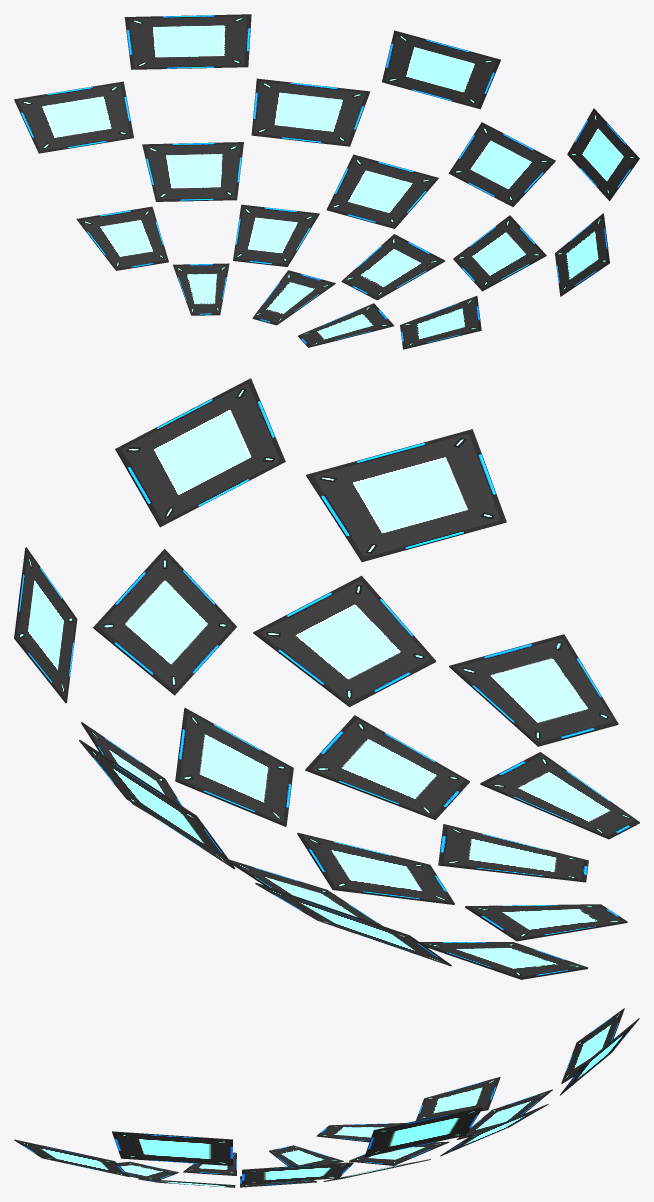
File: 7_tiles_arena_part_1.fbx
3 renders of one model, top to bottom at view 1: azimuth 30°, elevation 25°; view 2: azimuth 150°, elevation 25°; view 3: azimuth 270°, elevation 25°, orthographic. The views are drawn at different scales.
Parts seen in each view (by area): view 1: polySurface15; view 2: polySurface15; view 3: polySurface15.
Part boxes in pixels (<box>): polySurface15: <box>14,14,639,349</box>; polySurface15: <box>14,378,639,979</box>; polySurface15: <box>14,1008,639,1187</box>.
Bounding box in the file's own units: 2.1 × 0.8381 × 3.12.
